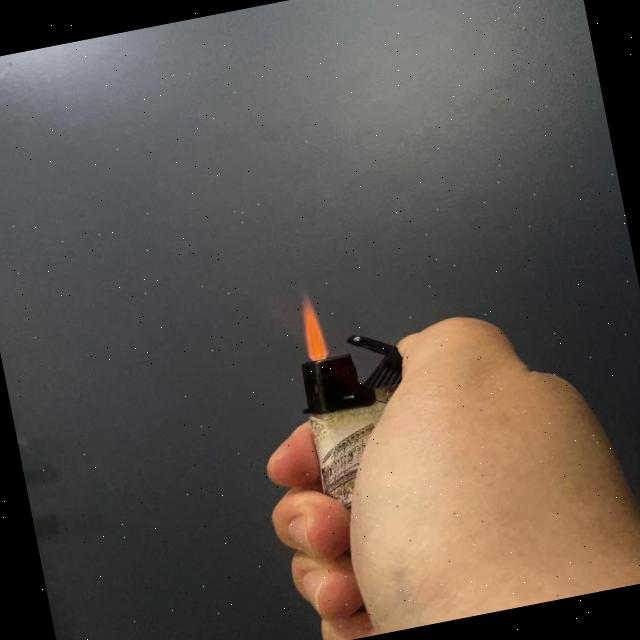fire: (289, 286, 333, 366)
